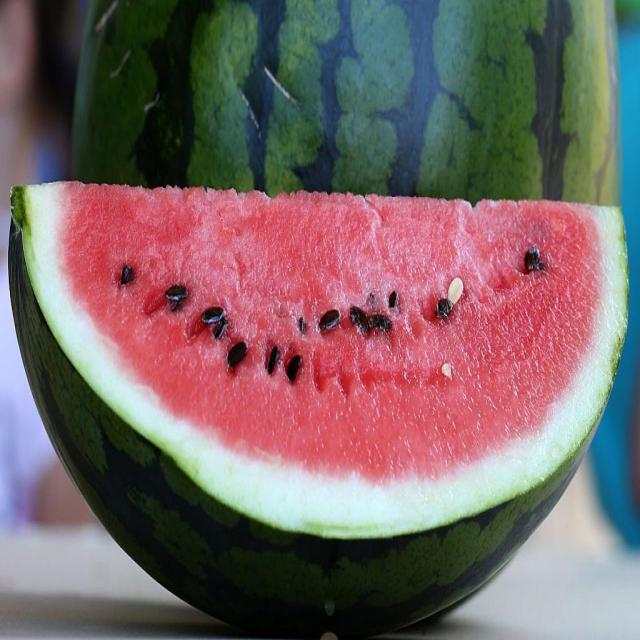Watermelon: (9, 182, 628, 635), (75, 0, 620, 204)
